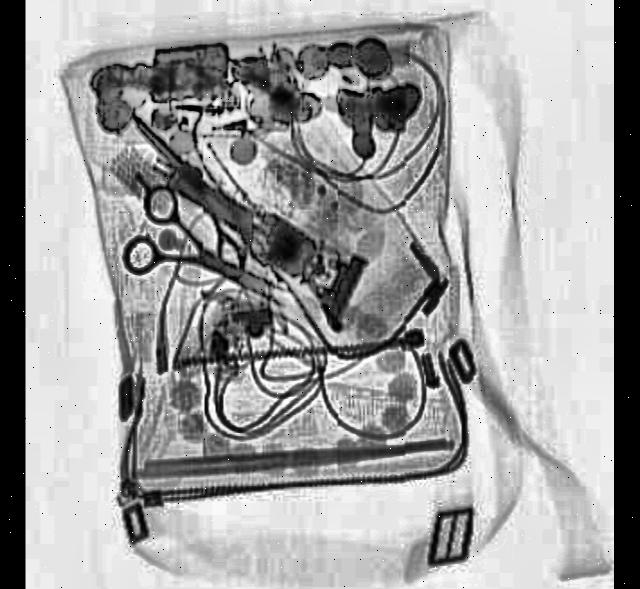Scissors: (116, 180, 294, 345)
